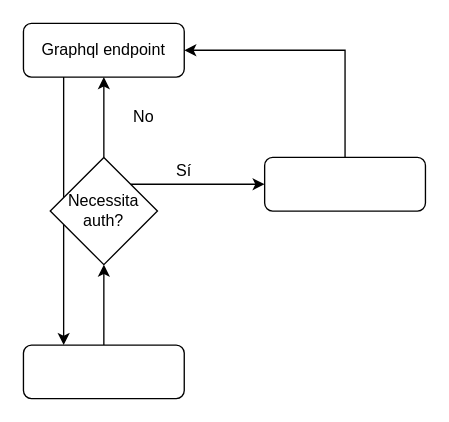
This 449x422 diagram has some shape labels left out. Each missing label, with the centre of its shape:
"Firebase Auth" goes at point 344,183.
"VueJS client" goes at point 103,371.
